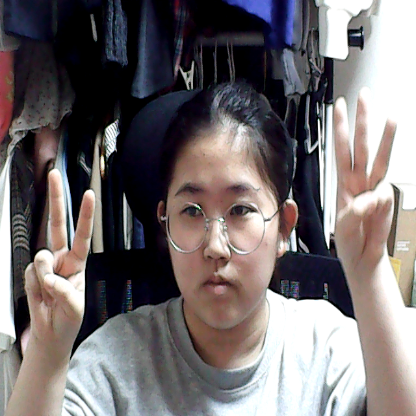Finger_2: (16, 160, 114, 365)
Finger_3: (315, 80, 408, 278)
